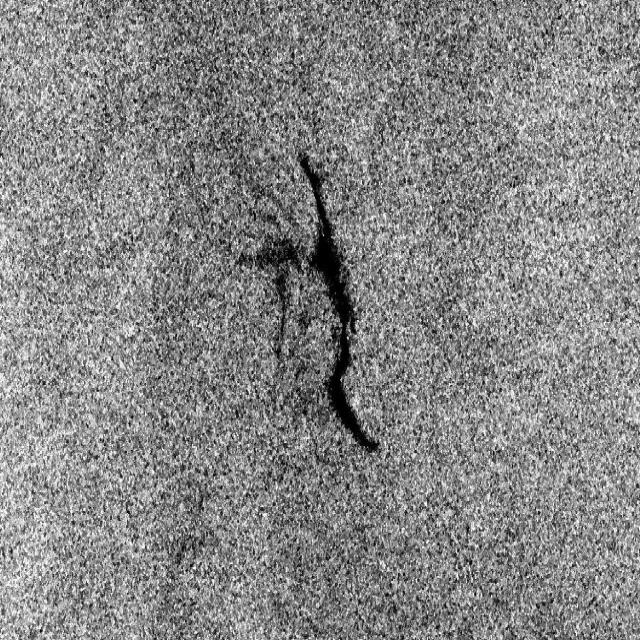look-alike: (233, 140, 387, 472)
